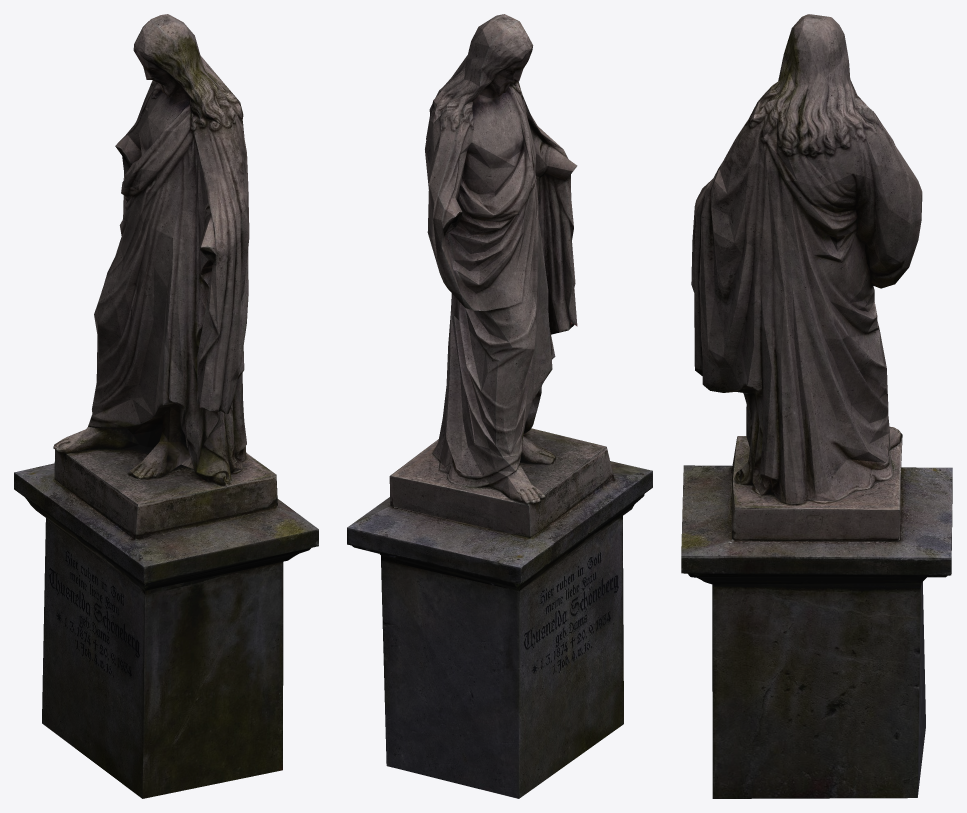
File: HIY4414RBDLKMX041X9BHX66Y.fbx
3 views of the same model, side by side, from view 1: azimuth 30°, elevation 25°; view 2: azimuth 150°, elevation 25°; view 3: azimuth 270°, elevation 25° (orthographic). The views are drawn at different scales.
Parts seen in each view (by area): view 1: Object_jesus_statue_d.jpg; view 2: Object_jesus_statue_d.jpg; view 3: Object_jesus_statue_d.jpg.
Part boxes in pixels (<box>): Object_jesus_statue_d.jpg: <box>14,14,318,798</box>; Object_jesus_statue_d.jpg: <box>347,14,652,798</box>; Object_jesus_statue_d.jpg: <box>681,14,952,798</box>.
Bounding box in the file's own units: 0.6307 × 2.5 × 0.8217.
